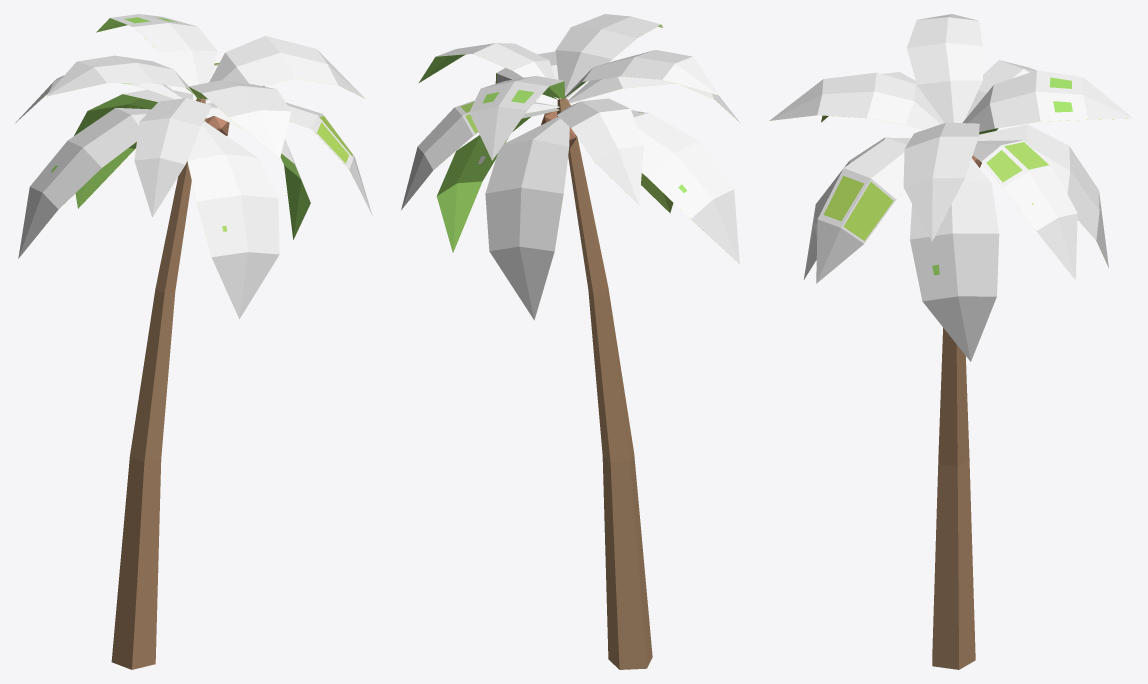
File: Palm_Tree_Coconut_l_Snow_BT_02.fbx
3 views of the same model, side by side, from view 1: azimuth 30°, elevation 25°; view 2: azimuth 150°, elevation 25°; view 3: azimuth 270°, elevation 25° (orthographic). The views are drawn at different scales.
Parts seen in each view (by area): view 1: Palm_Tree_Coconut_l_Snow_BT_02; view 2: Palm_Tree_Coconut_l_Snow_BT_02; view 3: Palm_Tree_Coconut_l_Snow_BT_02.
Part boxes in pixels (bbox=[...]): Palm_Tree_Coconut_l_Snow_BT_02: bbox=[15, 14, 372, 669]; Palm_Tree_Coconut_l_Snow_BT_02: bbox=[401, 14, 739, 669]; Palm_Tree_Coconut_l_Snow_BT_02: bbox=[769, 14, 1133, 669].
Bounding box in the file's own units: 499 × 864 × 459.
